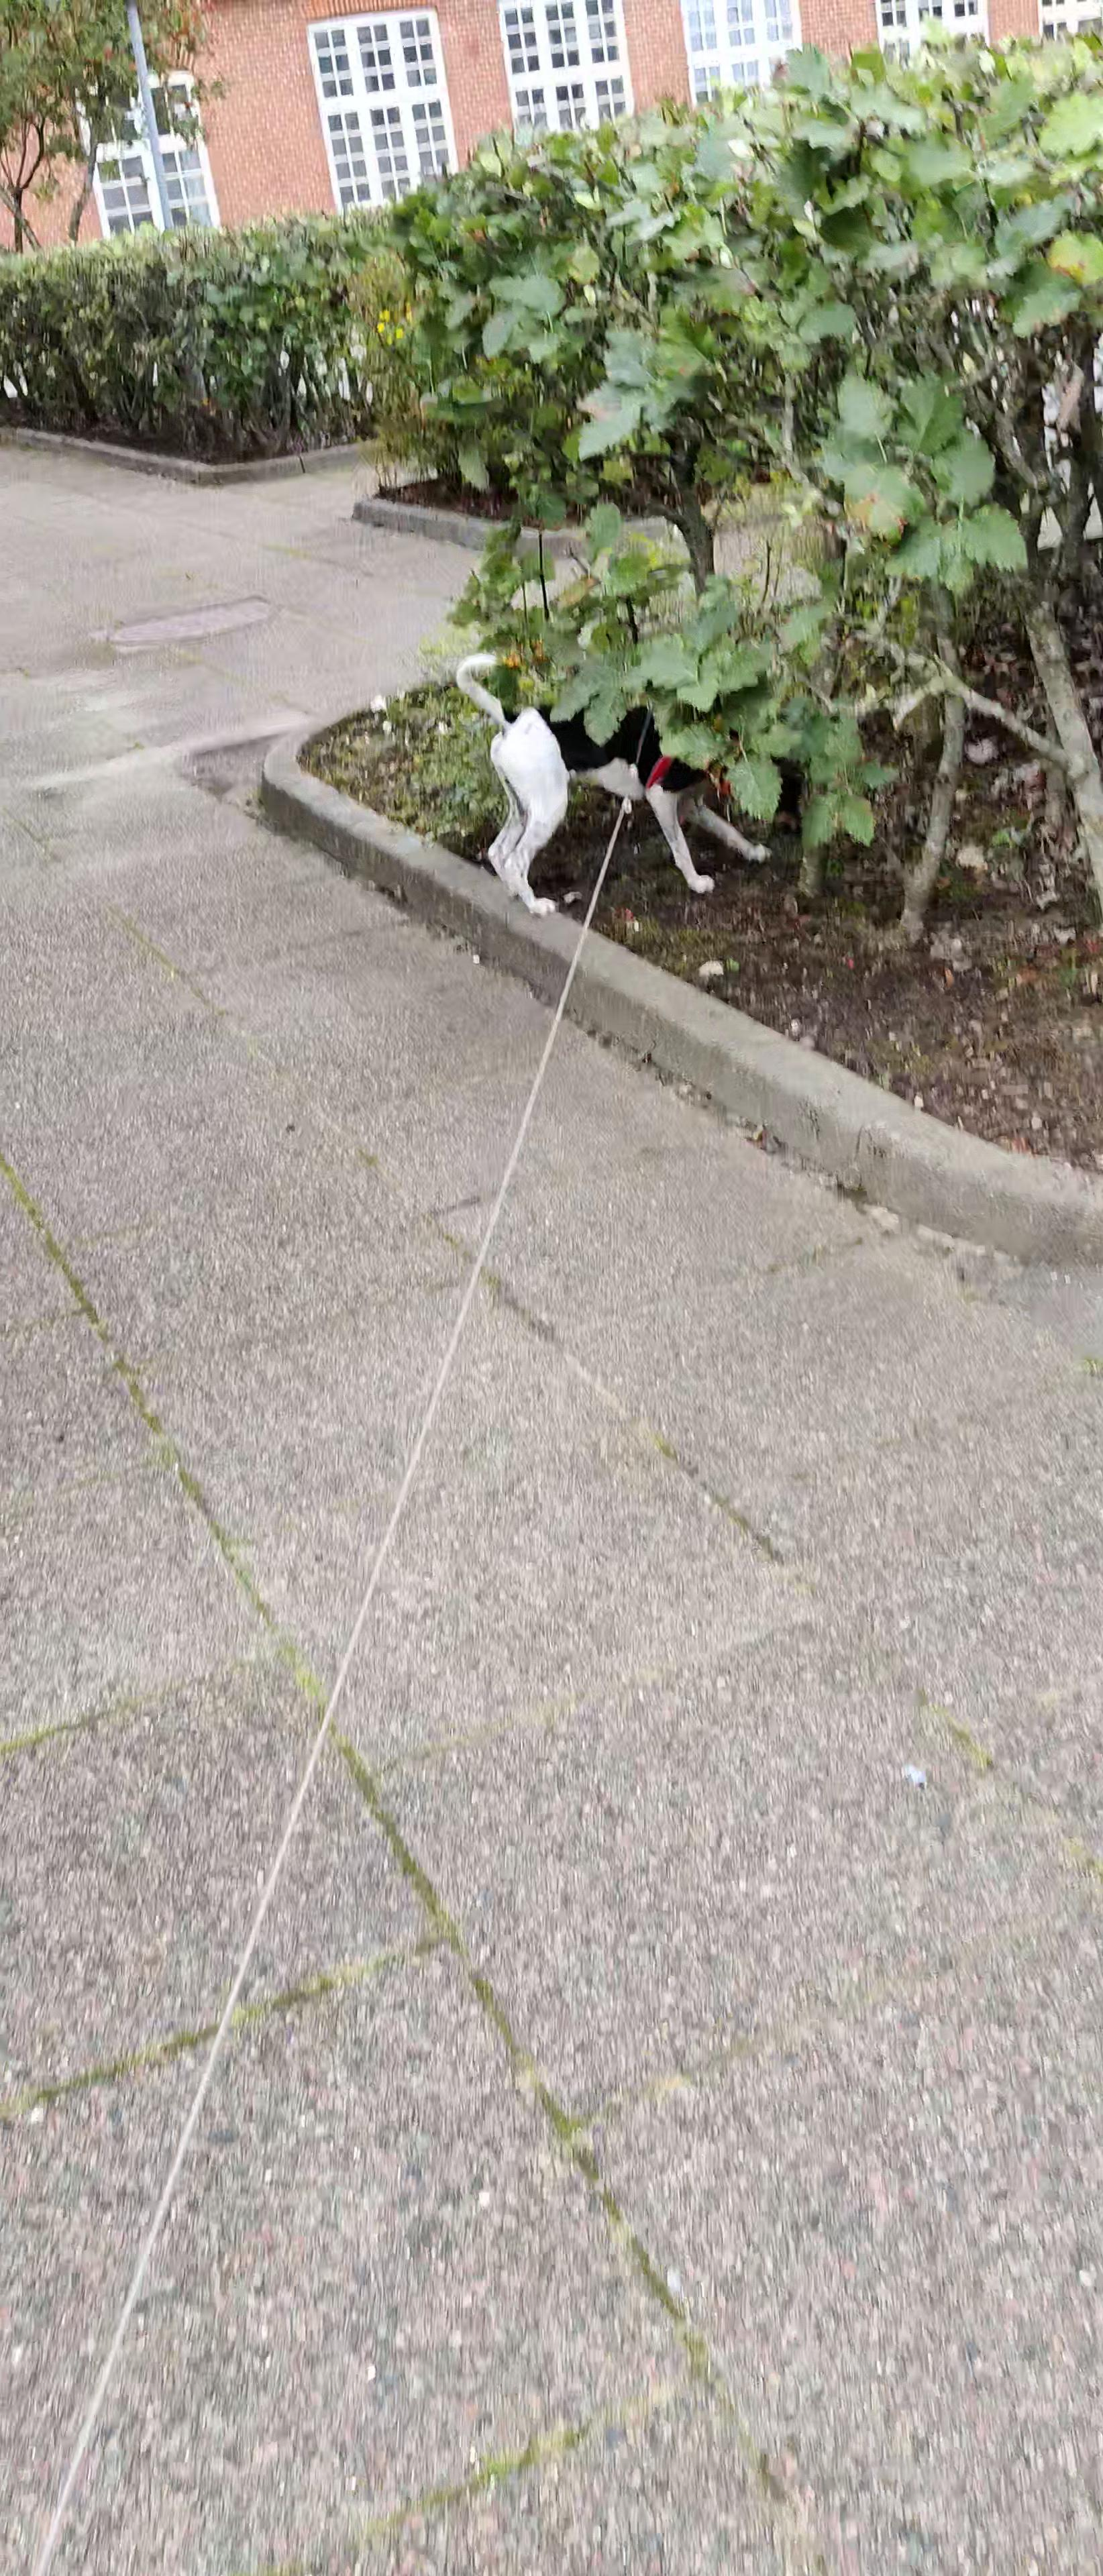Dog: (449, 647, 781, 920)
